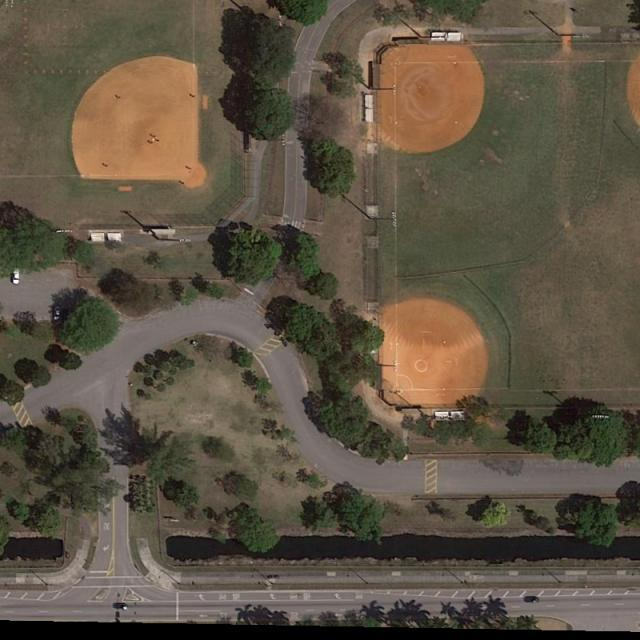vehicle: (13, 267, 22, 285), (113, 603, 130, 611), (54, 305, 62, 322), (524, 596, 540, 604)
